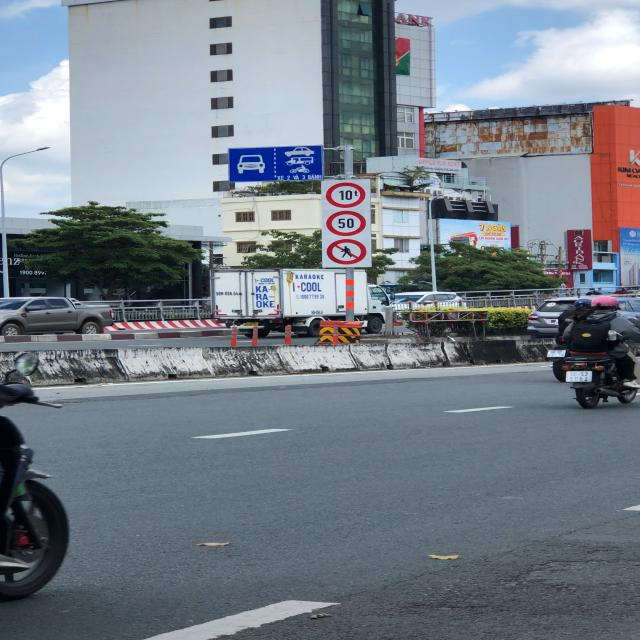Bien bao toc do toi da cho phep: (325, 210, 369, 238)
